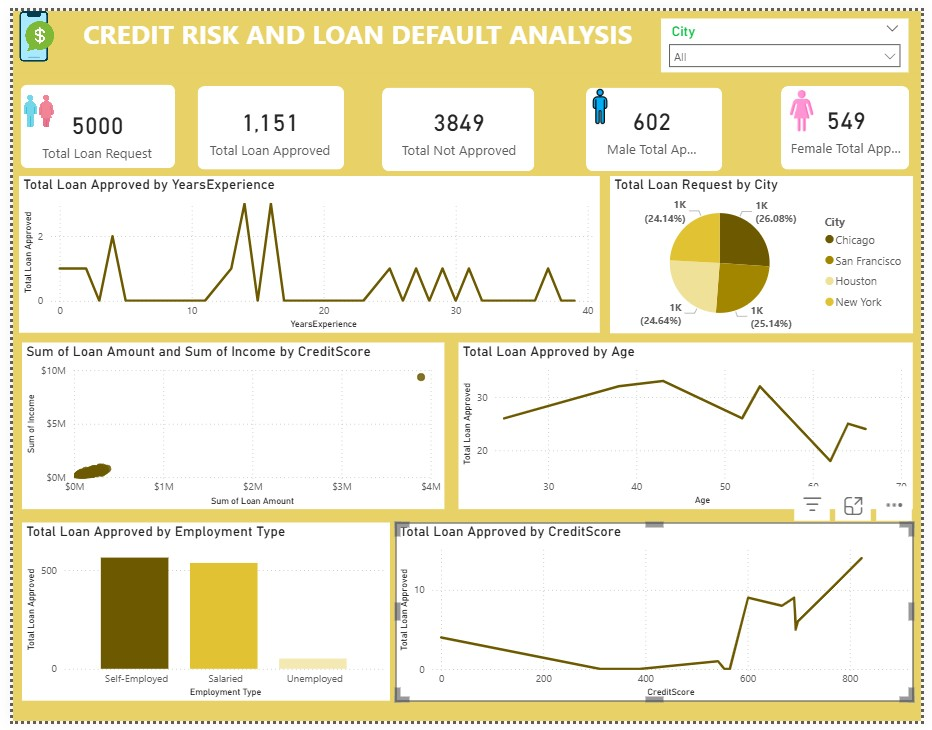

Layout of this report page (visuals, bound fields, positions):
{"tool":"powerbi","page":{"name":"Dashboard","canvas":[1100,860],"ordinal":0},"visuals":[{"type":"shape","box":[337.5,88.9,184.7,101.4],"z":0},{"type":"shape","box":[0,0,1200,980],"z":1000},{"type":"textbox","box":[0,0,1100,75],"z":2000},{"type":"image","box":[0,0,58.3,61.1],"z":3000},{"type":"shape","box":[8.8,88.9,187.5,101.4],"z":4000},{"type":"shape","box":[694.9,92.6,165.3,101.4],"z":5000},{"type":"shape","box":[931,91.2,155.6,101.4],"z":6000},{"type":"card","fields":{"Values":["loan_risk_prediction_dataset.Male Total Approved"]},"box":[711.6,98.1,126.4,88.9],"z":7000},{"type":"card","fields":{"Values":["loan_risk_prediction_dataset.Female Total Approved"]},"box":[936.1,97.2,145.8,90.3],"z":8000},{"type":"lineChart","fields":{"Category":["loan_risk_prediction_dataset.CreditScore"],"Y":["loan_risk_prediction_dataset.Total Loan Approved"]},"box":[463.6,620,627.3,216.4],"z":9000},{"type":"columnChart","fields":{"Category":["loan_risk_prediction_dataset.EmploymentType"],"Y":["loan_risk_prediction_dataset.Total Loan Approved"]},"box":[10,620,446,216],"z":10000},{"type":"lineChart","fields":{"Category":["loan_risk_prediction_dataset.Age"],"Y":["loan_risk_prediction_dataset.Total Loan Approved"]},"box":[540,401.8,550.9,201.8],"z":11000},{"type":"pieChart","fields":{"Category":["loan_risk_prediction_dataset.City"],"Y":["loan_risk_prediction_dataset.Total Loan Request"]},"box":[723.6,200,367.3,190.9],"z":12000},{"type":"lineChart","fields":{"Category":["loan_risk_prediction_dataset.YearsExperience"],"Y":["loan_risk_prediction_dataset.Total Loan Approved"]},"box":[8,200,704,190],"z":16000},{"type":"slicer","fields":{"Values":["loan_risk_prediction_dataset.City"]},"box":[786.1,9.7,300,65.3],"z":17000},{"type":"image","box":[8.8,100,44.4,41.7],"z":18000},{"type":"image","box":[686.6,92.6,48.6,45.8],"z":19000},{"type":"image","box":[930.6,94.4,50,52.8],"z":20000},{"type":"card","fields":{"Values":["loan_risk_prediction_dataset.Total Loan Request"]},"box":[7.4,106.9,188.9,79.2],"z":21000},{"type":"shape","box":[446.8,92.1,184.7,101.4],"z":22000},{"type":"shape","box":[224.1,90.3,177.8,101.4],"z":23000},{"type":"card","fields":{"Values":["loan_risk_prediction_dataset.Total Loan Approved"]},"box":[227.8,104.2,168.1,79.2],"z":24000},{"type":"card","fields":{"Values":["loan_risk_prediction_dataset.Not Approved"]},"box":[456.5,103.2,168.1,79.2],"z":25000},{"type":"scatterChart","fields":{"X":["Sum(loan_risk_prediction_dataset.LoanAmount)"],"Category":["loan_risk_prediction_dataset.CreditScore"],"Y":["Sum(loan_risk_prediction_dataset.Income)"]},"box":[10,402,512,202],"z":25001}]}

Visuals, with their boxes in screenshot pixels (x1, y1, x2, y2), scaled from the page's 1100x860 canvas onto the 932x730 screenshot:
shape: [286, 75, 442, 162]
shape: [0, 0, 931, 729]
textbox: [0, 0, 931, 64]
image: [0, 0, 49, 52]
shape: [7, 75, 166, 162]
shape: [589, 79, 729, 165]
shape: [789, 77, 921, 163]
card - loan_risk_prediction_dataset.Male Total Approved: [603, 83, 710, 159]
card - loan_risk_prediction_dataset.Female Total Approved: [793, 83, 917, 159]
lineChart - loan_risk_prediction_dataset.CreditScore x loan_risk_prediction_dataset.Total Loan Approved: [393, 526, 924, 710]
columnChart - loan_risk_prediction_dataset.EmploymentType x loan_risk_prediction_dataset.Total Loan Approved: [8, 526, 386, 710]
lineChart - loan_risk_prediction_dataset.Age x loan_risk_prediction_dataset.Total Loan Approved: [458, 341, 924, 512]
pieChart - loan_risk_prediction_dataset.City x loan_risk_prediction_dataset.Total Loan Request: [613, 170, 924, 332]
lineChart - loan_risk_prediction_dataset.YearsExperience x loan_risk_prediction_dataset.Total Loan Approved: [7, 170, 603, 331]
slicer - loan_risk_prediction_dataset.City: [666, 8, 920, 64]
image: [7, 85, 45, 120]
image: [582, 79, 623, 117]
image: [788, 80, 831, 125]
card - loan_risk_prediction_dataset.Total Loan Request: [6, 91, 166, 158]
shape: [379, 78, 535, 164]
shape: [190, 77, 341, 163]
card - loan_risk_prediction_dataset.Total Loan Approved: [193, 88, 335, 156]
card - loan_risk_prediction_dataset.Not Approved: [387, 88, 529, 155]
scatterChart - Sum(loan_risk_prediction_dataset.LoanAmount) x loan_risk_prediction_dataset.CreditScore: [8, 341, 442, 513]
